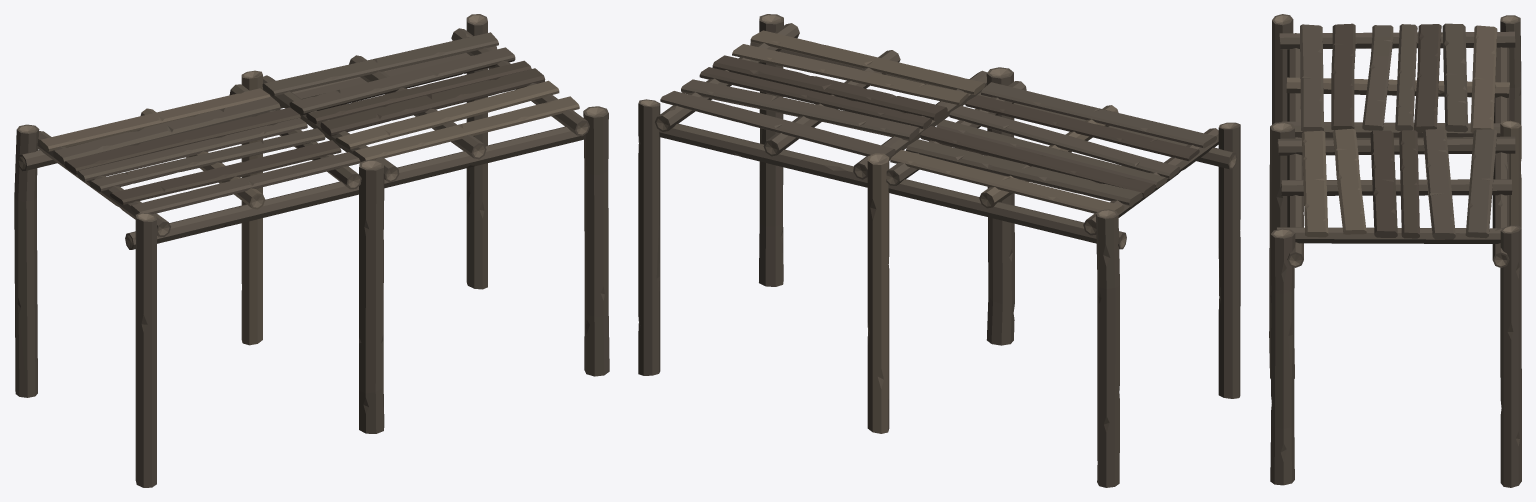
The model's file is Prop_Wood_Tent_02.fbx.
3 views of the same model, side by side, from view 1: azimuth 30°, elevation 25°; view 2: azimuth 150°, elevation 25°; view 3: azimuth 270°, elevation 25° (orthographic). The views are drawn at different scales.
Parts seen in each view (by area): view 1: Prop_Wood_Tent_02_LOD0; view 2: Prop_Wood_Tent_02_LOD0; view 3: Prop_Wood_Tent_02_LOD0.
Boxes of the visible parts, left/top/right/bottom form: Prop_Wood_Tent_02_LOD0: left=14, top=14, right=609, bottom=487; Prop_Wood_Tent_02_LOD0: left=638, top=14, right=1240, bottom=487; Prop_Wood_Tent_02_LOD0: left=1269, top=14, right=1521, bottom=487.
Size of what is drawn, in the model's own units: 397 by 215 by 193.
